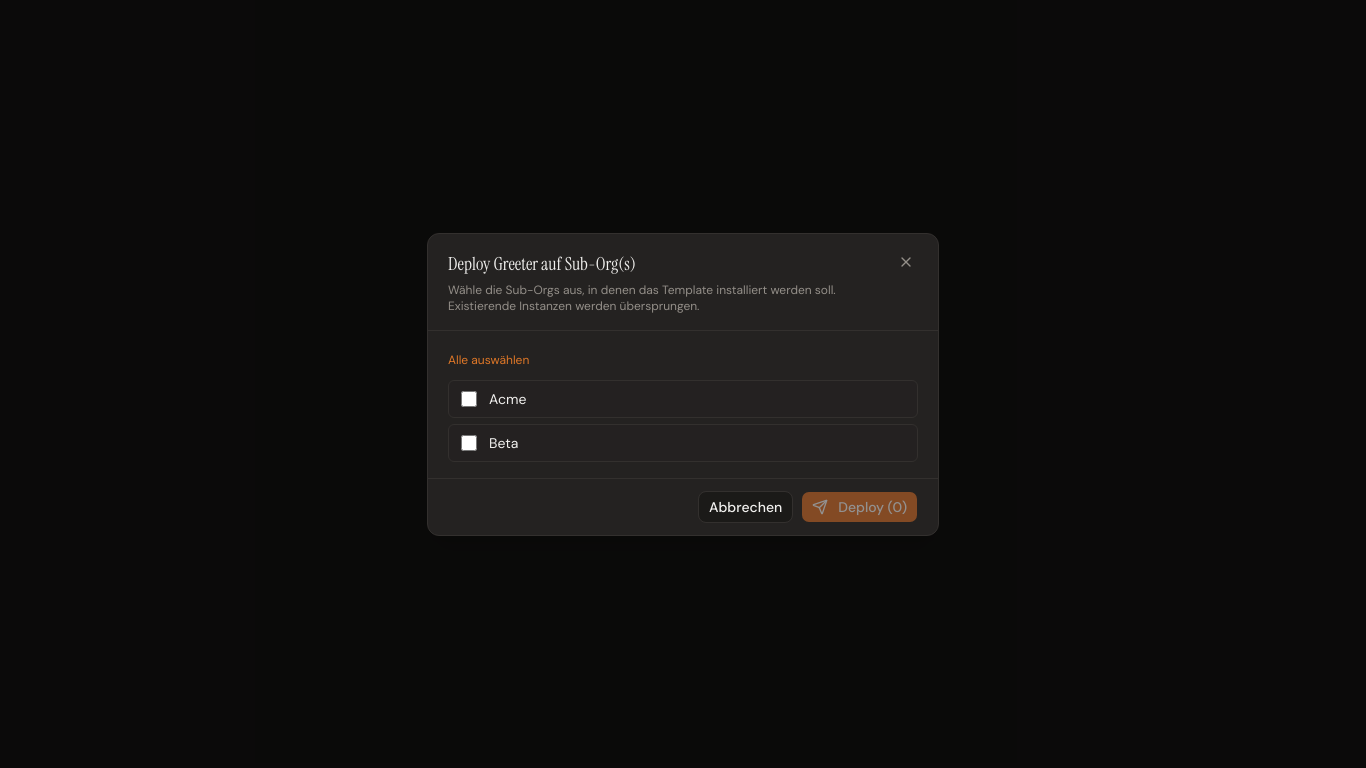
Test: TemplateDeployModal › toggles all on/off
Expected: the list with test id "template-deploy-modal-list" is shown, [448,380,918,462]
Click the button with test id "template-deploy-modal-toggle-all". click: (489, 360)
box: [448,352,529,368]
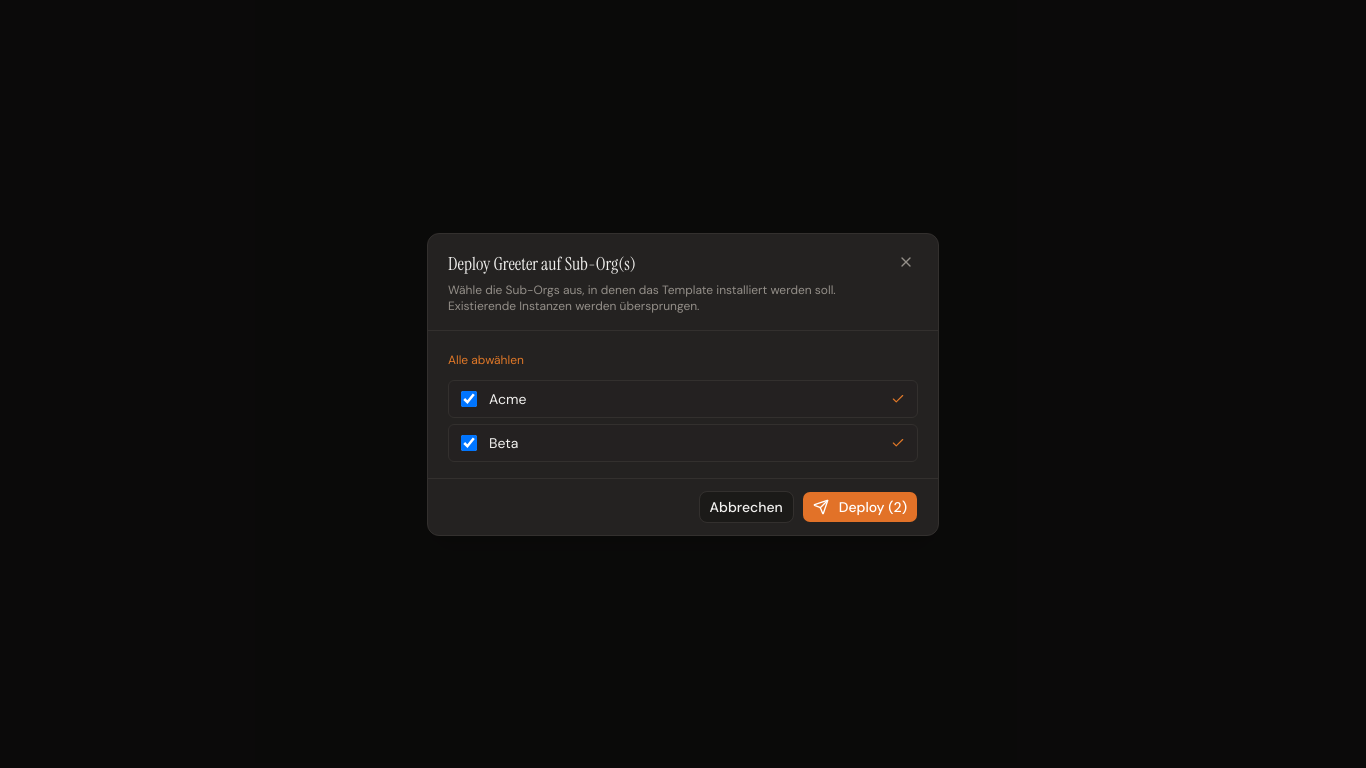
Expected: the button with test id "template-deploy-modal-submit" shows "(2)", [802,490,918,522]
Click the button with test id "template-deploy-modal-toggle-all". click: (486, 360)
box: [448,352,524,368]
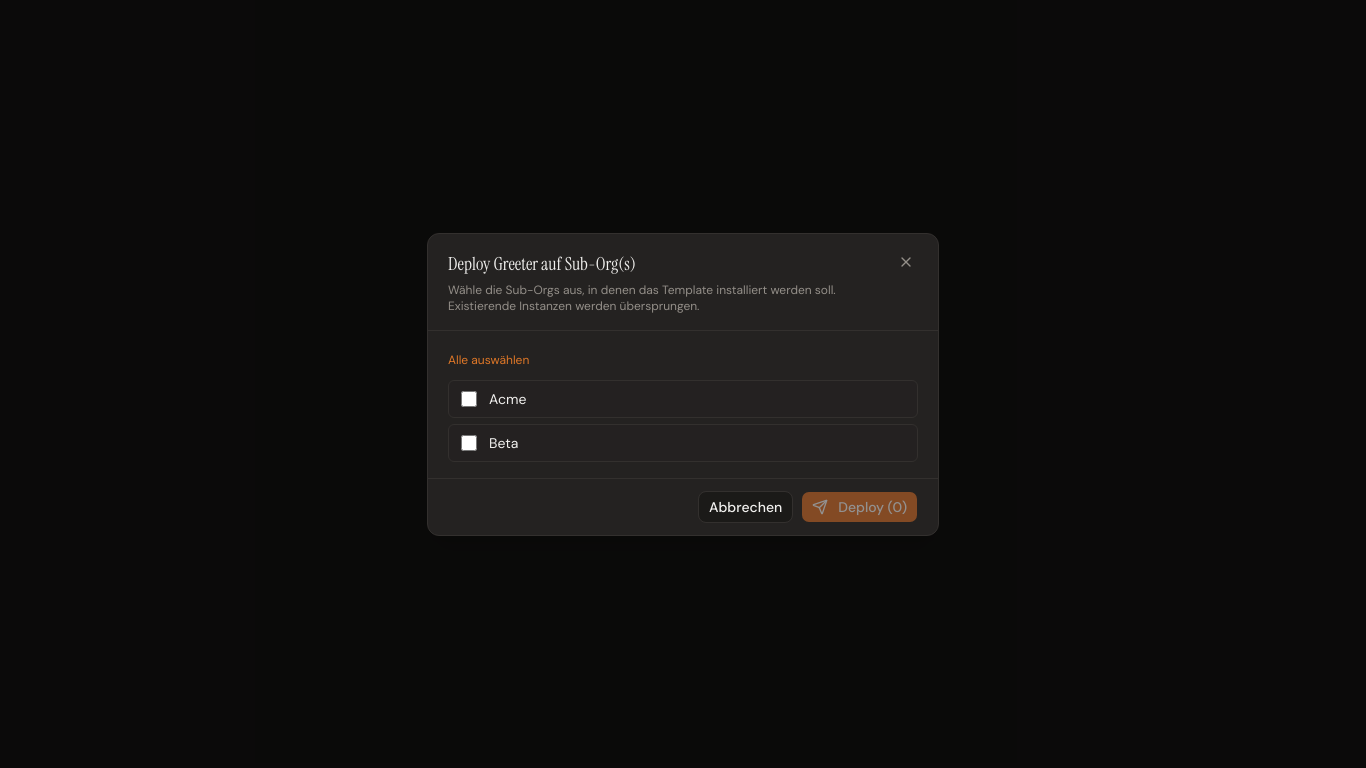
Expected: the button with test id "template-deploy-modal-submit" is disabled, [801,490,918,522]
